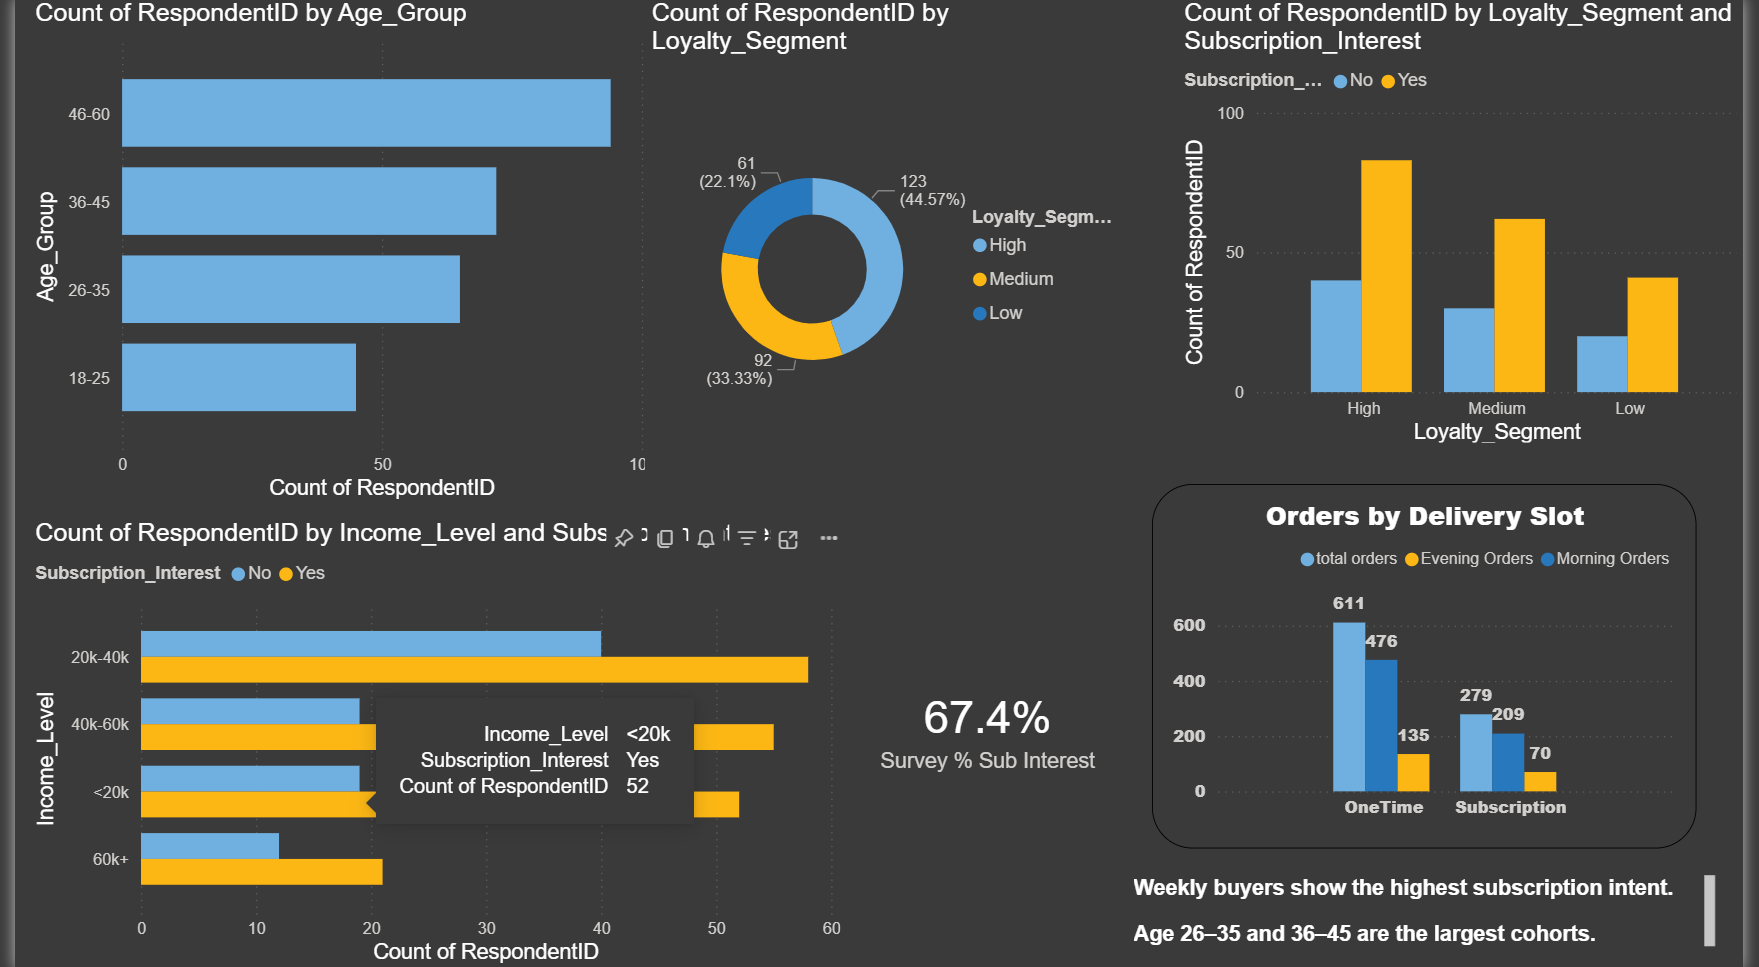

What the dashboard file says about the page in this screenshot:
{"tool":"powerbi","page":{"name":"Customer insight dashboard","canvas":[1280,720],"ordinal":2},"visuals":[{"type":"clusteredBarChart","fields":{"Category":["survey_clean.Age_Group"],"Y":["CountNonNull(survey_clean.RespondentID)"]},"box":[10,0,470,376],"z":0},{"type":"donutChart","fields":{"Category":["survey_clean.Loyalty_Segment"],"Y":["CountNonNull(survey_clean.RespondentID)"]},"box":[467.1,0,356.1,359.5],"z":1000},{"type":"card","fields":{"Values":["survey_clean.Survey % Sub Interest"]},"box":[616.2,359.5,207.1,361.1],"z":2000},{"type":"clusteredColumnChart","fields":{"Category":["survey_clean.Loyalty_Segment"],"Series":["survey_clean.Subscription_Interest"],"Y":["CountNonNull(survey_clean.RespondentID)"]},"box":[861.4,0,419.1,334.6],"z":3000},{"type":"textbox","box":[823,644.1,440.8,76.4],"z":4000},{"type":"clusteredBarChart","fields":{"Category":["survey_clean.Income_Level"],"Series":["survey_clean.Subscription_Interest"],"Y":["CountNonNull(survey_clean.RespondentID)"]},"box":[9.9,386,606.3,334.6],"z":5000},{"type":"clusteredColumnChart","title":"Orders by Delivery Slot","fields":{"Y":["orders_clean.total orders","orders_clean.Evening Orders","orders_clean.Morning Orders"],"Category":["orders_clean.OrderType"]},"box":[842.5,359.5,403.4,270],"z":6000}]}

Visuals, with their boxes in screenshot pixels (x1, y1, x2, y2), scaled from the page's 1280x720 canvas onto the 1759x967 screenshot:
clusteredBarChart - survey_clean.Age_Group x CountNonNull(survey_clean.RespondentID): (x1=14, y1=0, x2=660, y2=505)
donutChart - survey_clean.Loyalty_Segment x CountNonNull(survey_clean.RespondentID): (x1=642, y1=0, x2=1131, y2=483)
card - survey_clean.Survey % Sub Interest: (x1=847, y1=483, x2=1131, y2=966)
clusteredColumnChart - survey_clean.Loyalty_Segment x survey_clean.Subscription_Interest: (x1=1184, y1=0, x2=1758, y2=449)
textbox: (x1=1131, y1=865, x2=1737, y2=966)
clusteredBarChart - survey_clean.Income_Level x survey_clean.Subscription_Interest: (x1=14, y1=518, x2=847, y2=966)
"Orders by Delivery Slot" clusteredColumnChart: (x1=1158, y1=483, x2=1712, y2=845)
